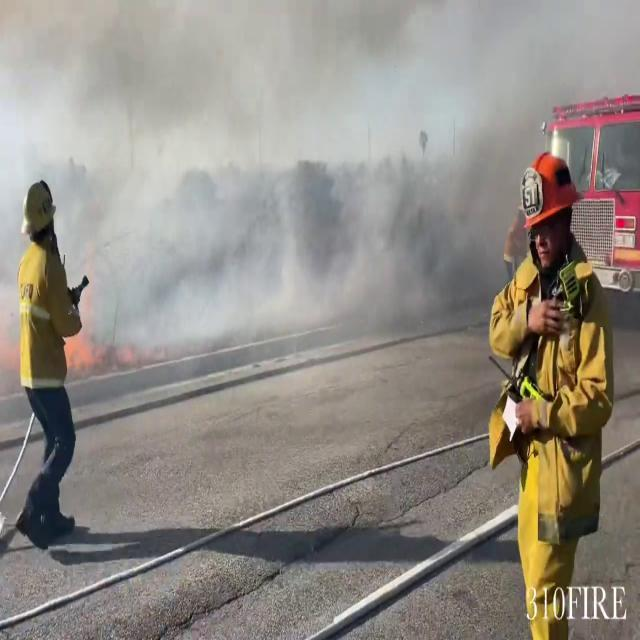Smoke: (0, 0, 548, 358)
